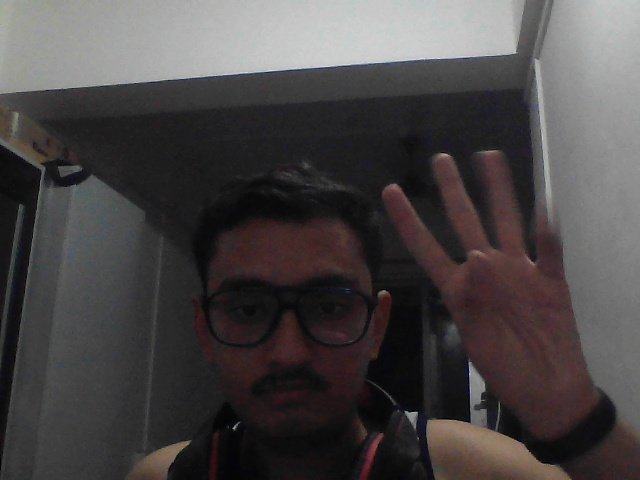Hello: (350, 134, 600, 391)
